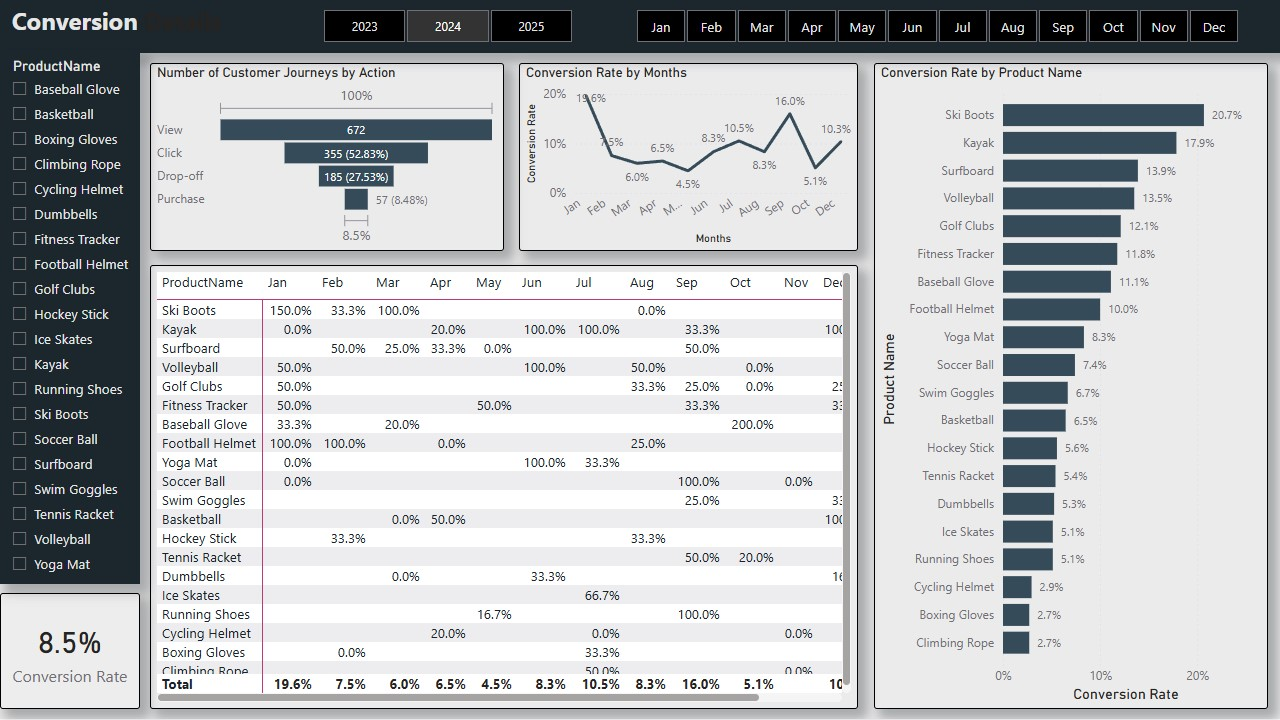

What the dashboard file says about the page in this screenshot:
{"tool":"powerbi","page":{"name":"Conversion Details","canvas":[1280,720],"ordinal":1},"visuals":[{"type":"textbox","box":[0,0,1280,54.5],"z":0},{"type":"slicer","fields":{"Values":["dim_products.ProductName"]},"box":[0,54,140,531],"z":1000},{"type":"card","fields":{"Values":["_Calculations.Conversion Rate"]},"box":[0,594,140,116],"z":2000},{"type":"slicer","fields":{"Values":["Calendar.Year"]},"box":[298,4,298,46],"z":3000},{"type":"slicer","fields":{"Values":["Calendar.MonthNameShort"]},"box":[611,4,651,46],"z":4000},{"type":"lineChart","fields":{"Y":["_Calculations.Conversion Rate"],"Category":["Calendar.MonthNameShort"]},"box":[519,64,339,188],"z":5000},{"type":"barChart","fields":{"Category":["dim_products.ProductName"],"Y":["_Calculations.Conversion Rate"]},"box":[874,64,394,646],"z":6000},{"type":"pivotTable","fields":{"Values":["_Calculations.Conversion Rate"],"Rows":["dim_products.ProductName"],"Columns":["Calendar.MonthNameShort"]},"box":[150,266,708,444],"z":7000},{"type":"funnel","fields":{"Category":["fact_customer_journey.Action"],"Y":["_Calculations.Number of Customer Journeys"]},"box":[150,64,354,188],"z":8000}]}

Visuals, with their boxes in screenshot pixels (x1, y1, x2, y2), scaled from the page's 1280x720 canvas onto the 1280x720 screenshot:
textbox: [0, 0, 1279, 54]
slicer - dim_products.ProductName: [0, 54, 140, 585]
card - _Calculations.Conversion Rate: [0, 594, 140, 710]
slicer - Calendar.Year: [298, 4, 596, 50]
slicer - Calendar.MonthNameShort: [611, 4, 1262, 50]
lineChart - _Calculations.Conversion Rate x Calendar.MonthNameShort: [519, 64, 858, 252]
barChart - dim_products.ProductName x _Calculations.Conversion Rate: [874, 64, 1268, 710]
pivotTable - _Calculations.Conversion Rate x dim_products.ProductName: [150, 266, 858, 710]
funnel - fact_customer_journey.Action x _Calculations.Number of Customer Journeys: [150, 64, 504, 252]
